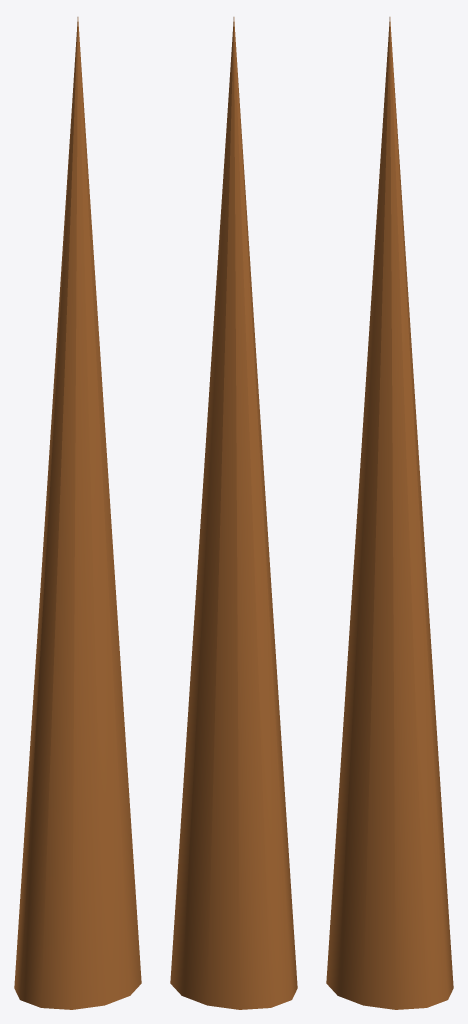
File: feather_spear.glb
The picture shows the model from 3 angles, left to right: view 1: azimuth 30°, elevation 25°; view 2: azimuth 150°, elevation 25°; view 3: azimuth 330°, elevation 25°; orthographic projection.
Visible parts, largest first — view 1: spear; view 2: spear; view 3: spear.
Part boxes in pixels (<box>): spear: <box>14,17,141,1009</box>; spear: <box>170,17,297,1009</box>; spear: <box>326,17,453,1009</box>.
Bounding box in the file's own units: 0.2 × 1.6 × 0.16.
